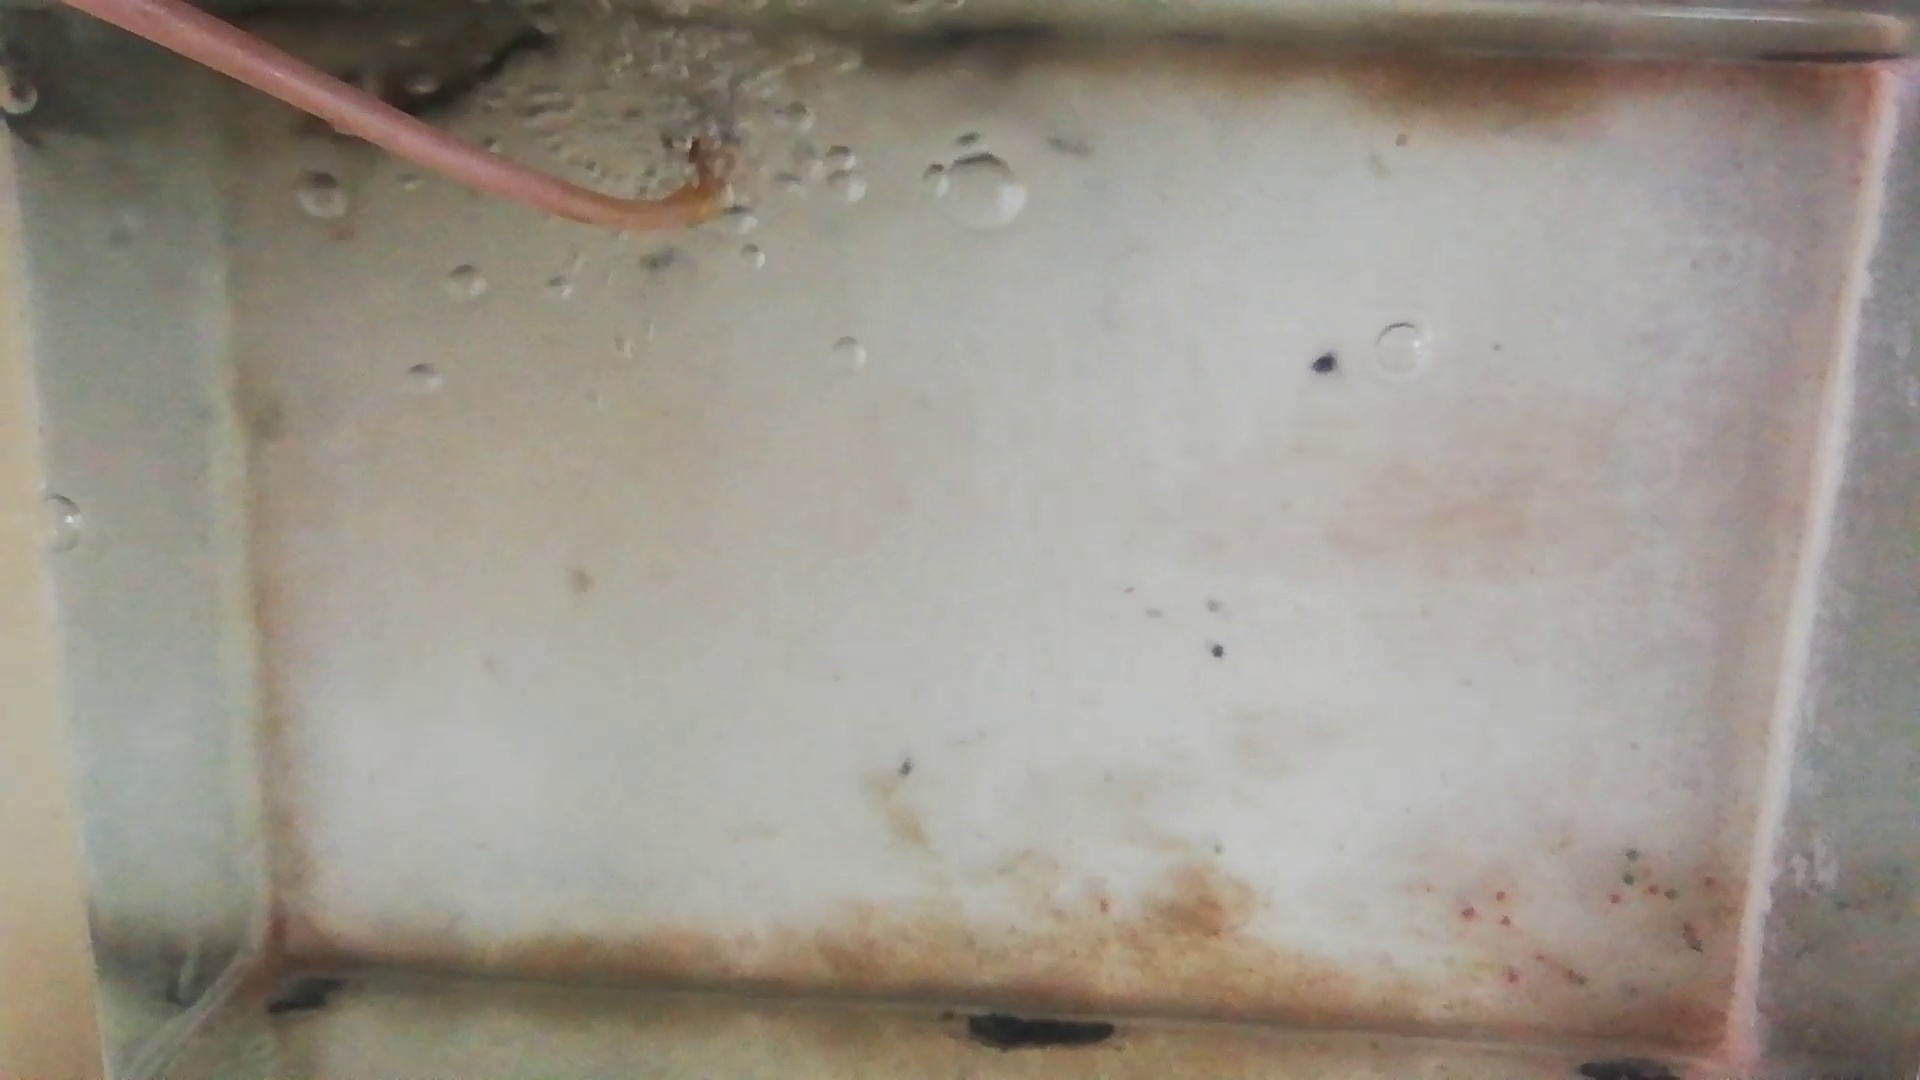fish: (381, 36, 539, 107)
